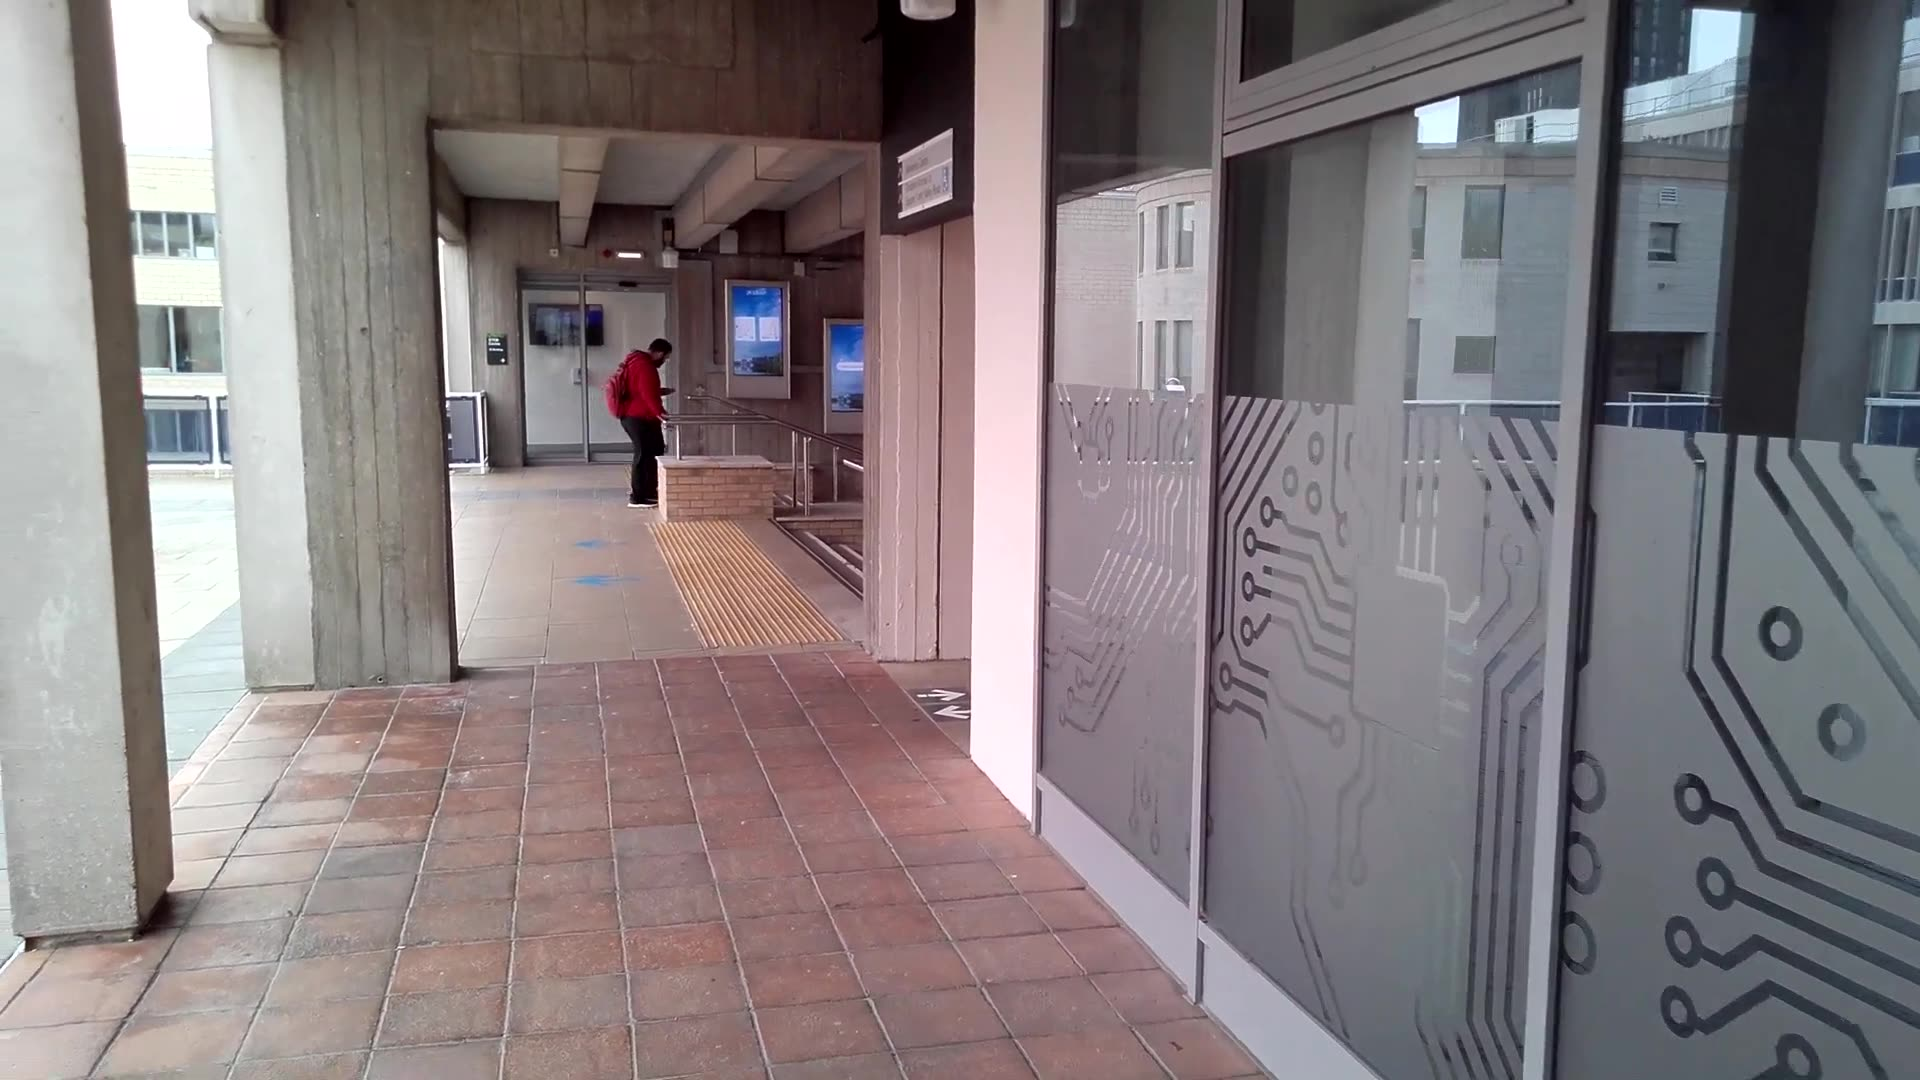Backpack: (602, 359, 642, 423)
Person: (633, 327, 676, 506)
